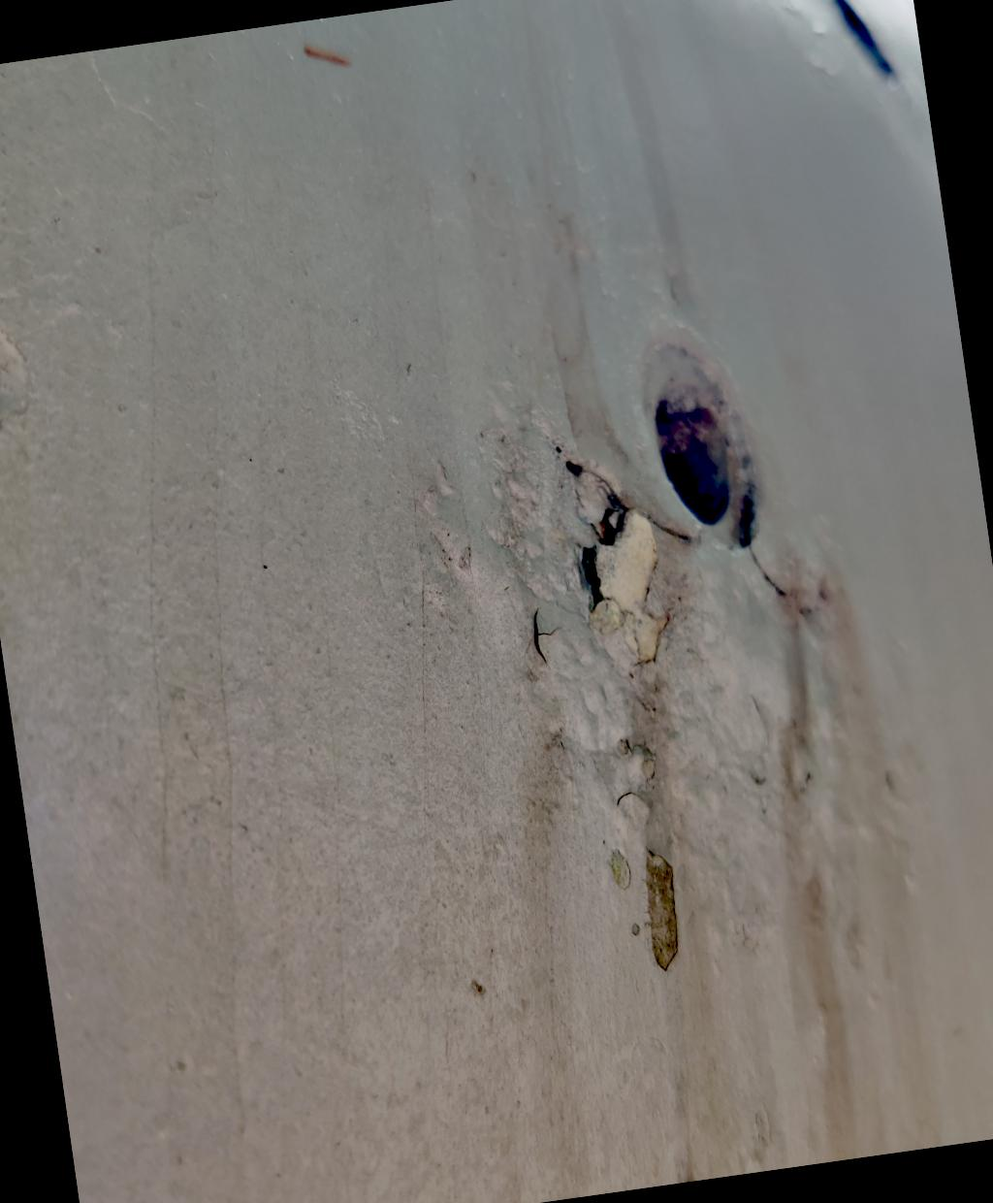crack: (531, 441, 698, 667)
